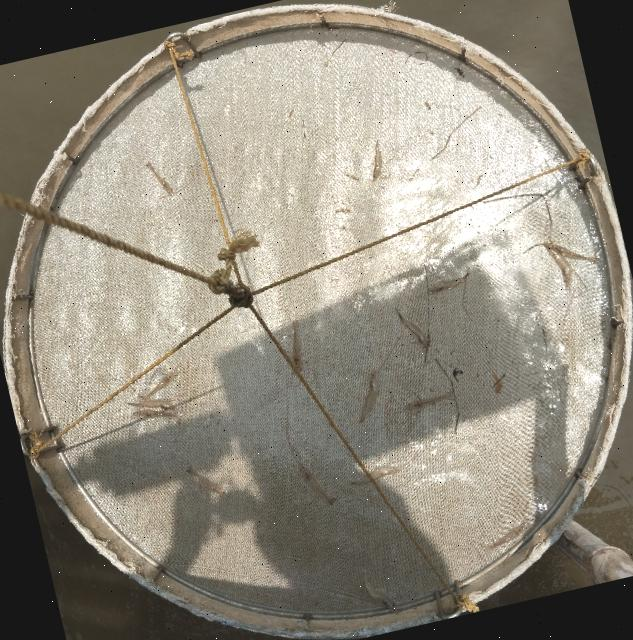shrimp: (481, 521, 527, 556), (360, 571, 398, 613), (298, 464, 336, 504), (395, 307, 427, 351), (186, 466, 227, 498), (544, 243, 570, 287), (141, 370, 177, 400), (545, 242, 598, 262), (405, 390, 454, 410), (359, 370, 377, 422), (350, 466, 399, 485), (427, 272, 468, 293), (146, 162, 172, 193), (133, 410, 183, 423), (292, 319, 302, 374), (127, 400, 176, 410)
